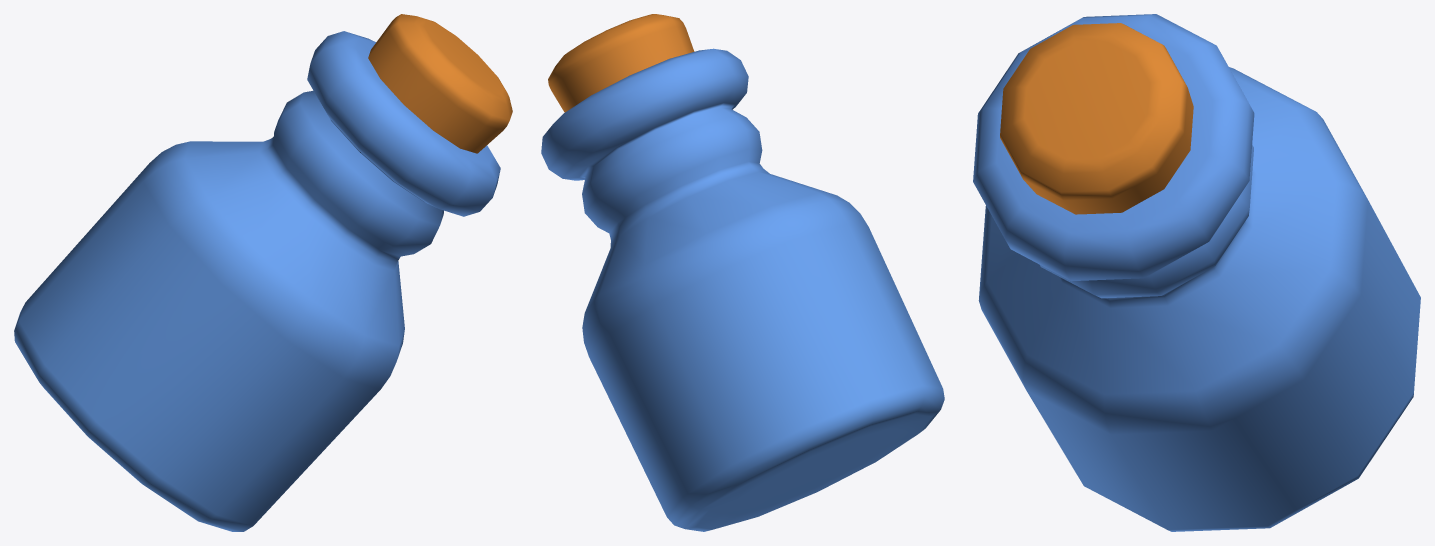
3 views of the same model, side by side, from view 1: azimuth 30°, elevation 25°; view 2: azimuth 150°, elevation 25°; view 3: azimuth 270°, elevation 25° (orthographic). The views are drawn at different scales.
Parts seen in each view (by area): view 1: model_1.129; view 2: model_1.129; view 3: model_1.129.
Part boxes in pixels (x1,y1,x2,y2): model_1.129: (14,14,512,531); model_1.129: (541,14,944,531); model_1.129: (973,14,1420,531).
Size of the model in its own units: 4.07 by 4.34 by 3.
